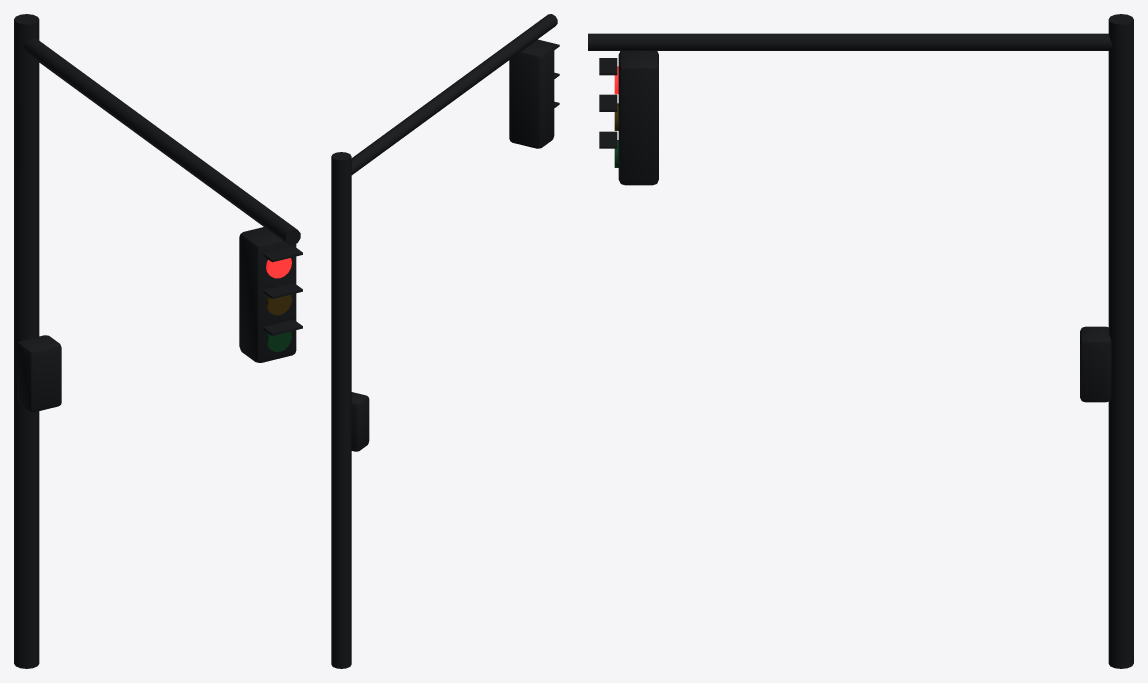
Rendered from traffic_light.glb.
3 renders of one model, left to right at view 1: azimuth 30°, elevation 25°; view 2: azimuth 150°, elevation 25°; view 3: azimuth 270°, elevation 25°, orthographic. The views are drawn at different scales.
Parts seen in each view (by area): view 1: traffic_light; view 2: traffic_light; view 3: traffic_light.
Boxes of the visible parts, left/top/right/bottom form: traffic_light: left=14, top=14, right=302, bottom=668; traffic_light: left=331, top=14, right=559, bottom=668; traffic_light: left=588, top=14, right=1133, bottom=668.
Size of the model in its own units: 0.38 by 5.6 by 4.3.
